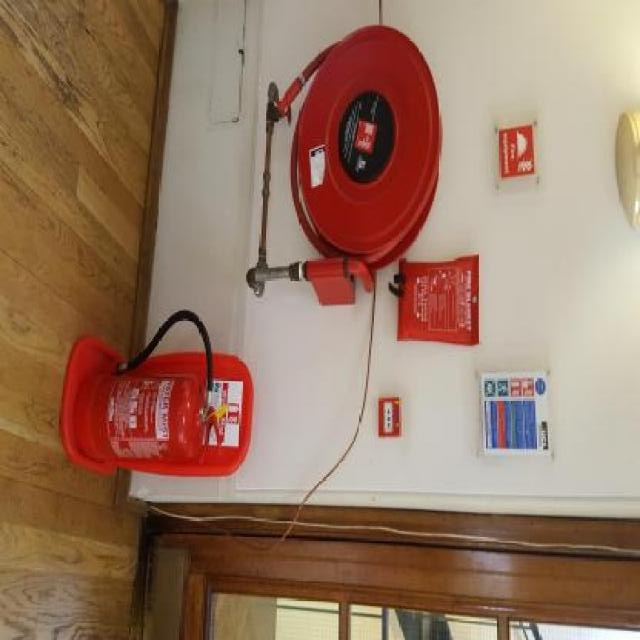fire extinguisher: (74, 367, 228, 459)
